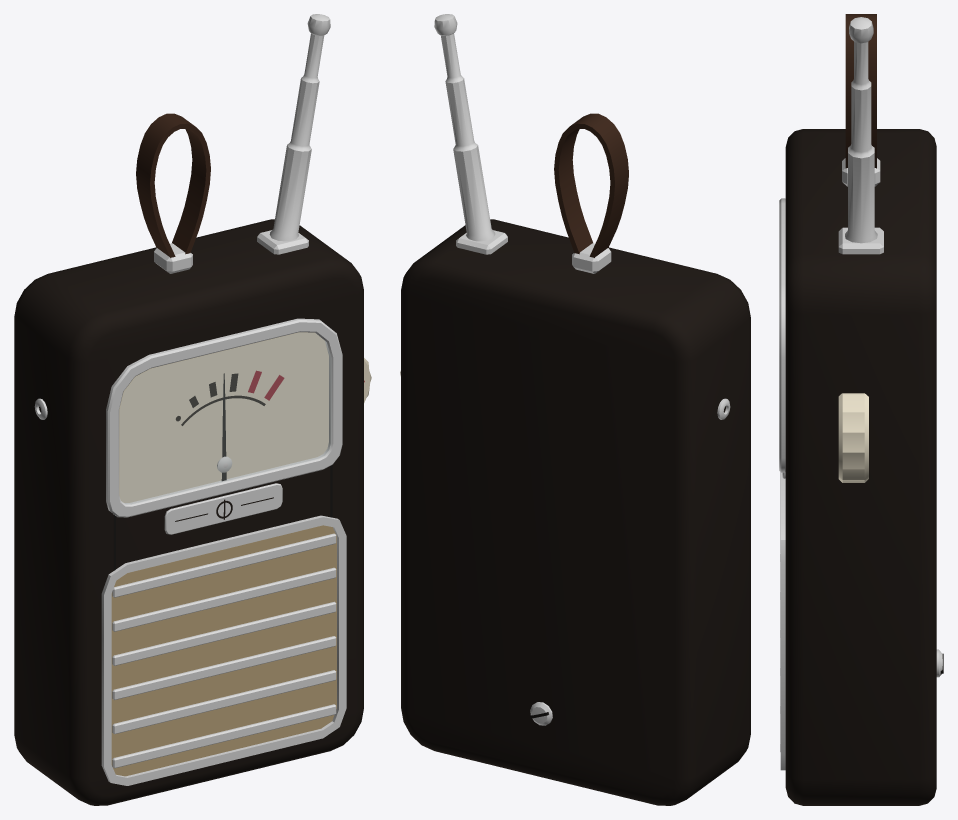
File: pocket_receiver.glb
The picture shows the model from 3 angles, left to right: view 1: azimuth 30°, elevation 25°; view 2: azimuth 150°, elevation 25°; view 3: azimuth 270°, elevation 25°; orthographic projection. The views are drawn at different scales.
Visible parts, largest first — view 1: receiver_details, pocket_receiver; view 2: pocket_receiver, receiver_details; view 3: pocket_receiver, receiver_details, tuning_knob.
Part boxes in pixels (<box>): receiver_details: <box>34,14,346,785</box>; pocket_receiver: <box>14,219,363,805</box>; pocket_receiver: <box>401,219,750,805</box>; receiver_details: <box>434,14,730,725</box>; pocket_receiver: <box>785,129,936,805</box>; receiver_details: <box>779,14,943,770</box>; tuning_knob: <box>838,393,868,482</box>.
Bounding box in the file's own units: 0.0829 × 0.1738 × 0.0327.
